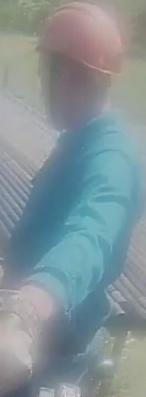gloves: (0, 285, 45, 397)
helmet: (31, 4, 127, 79)
vest: (18, 126, 140, 321)
